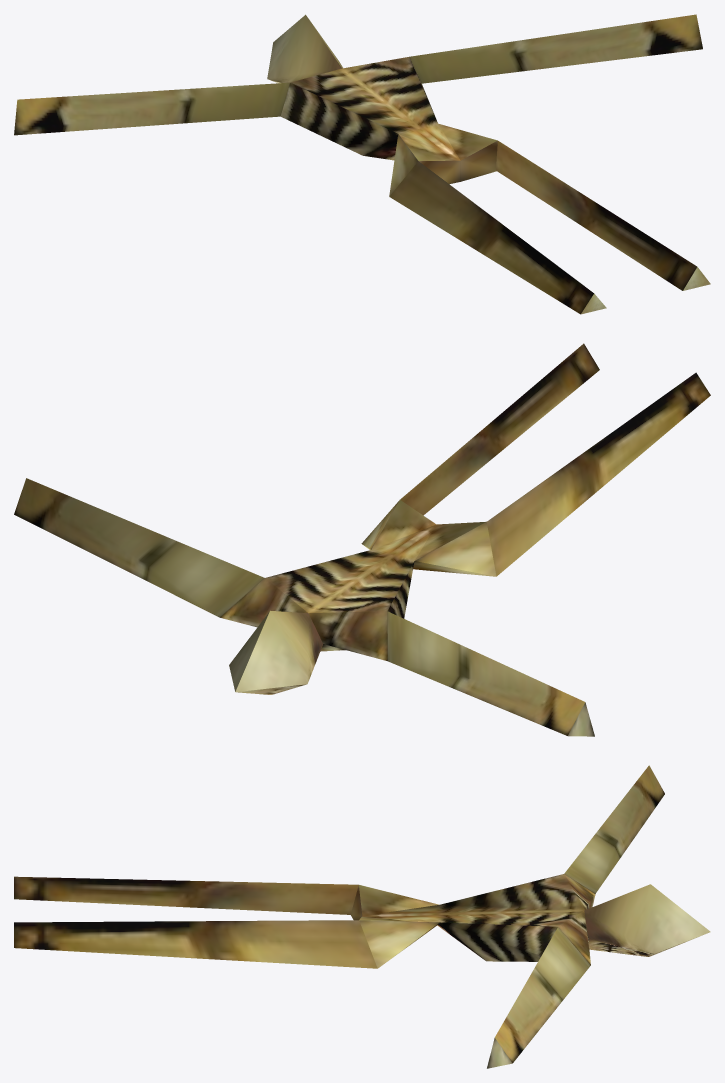
Rendered from pir_m_hnd_dol_bane_b.fbx.
The picture shows the model from 3 angles, top to bottom: view 1: azimuth 30°, elevation 25°; view 2: azimuth 150°, elevation 25°; view 3: azimuth 270°, elevation 25°; orthographic projection. The views are drawn at different scales.
Visible parts, largest first — view 1: lod_low; view 2: lod_low; view 3: lod_low.
Part boxes in pixels (x1=…): lod_low: x1=14, y1=14, x2=710, y2=314; lod_low: x1=14, y1=343, x2=710, y2=736; lod_low: x1=14, y1=765, x2=710, y2=1068.
Size of the model in its own units: 74.75 by 9.6 by 79.68.
1 material, 1 textured.
